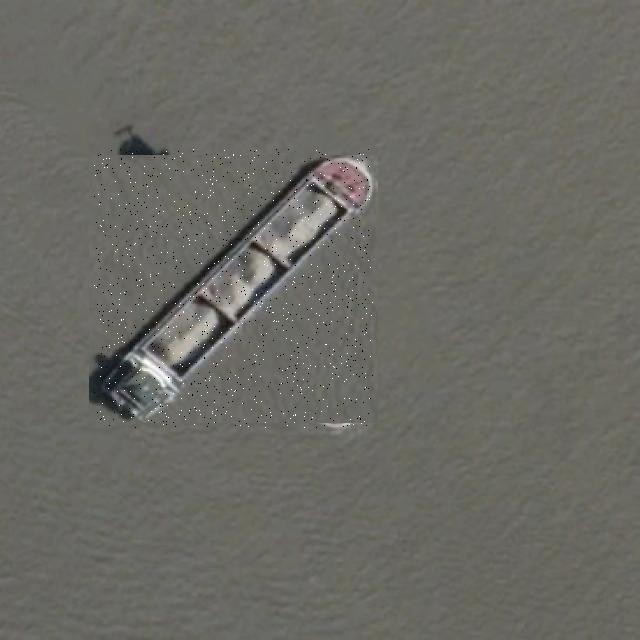boat: (94, 149, 373, 428)
